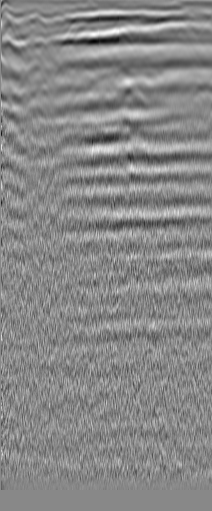오수: (22, 8, 42, 28)
우수: (180, 7, 200, 27)
